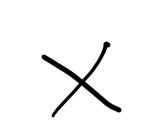mult: (41, 42, 122, 117)
